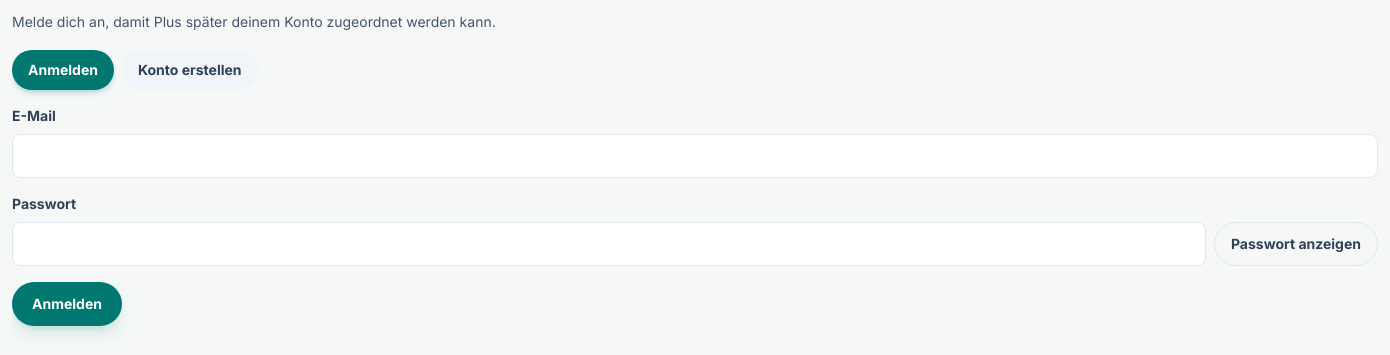
it: AuthPanel › toggles the password field from password to text
The width and height of the screenshot is (1390, 355).
Click the button "Passwort anzeigen" at (1296, 244), box [1214,222,1378,266]
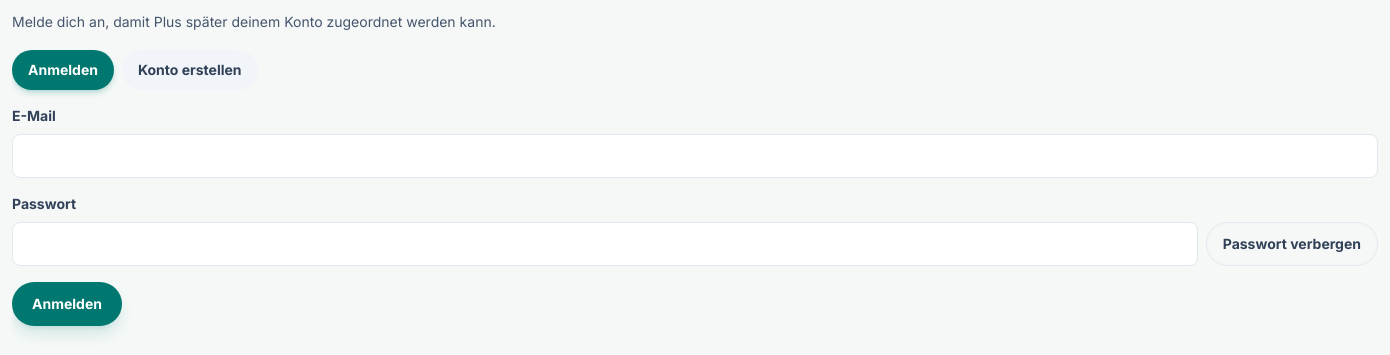
Expected: the text "Passwort verbergen" is shown
Click the button "Passwort verbergen" at (1292, 244), box [1206,222,1378,266]
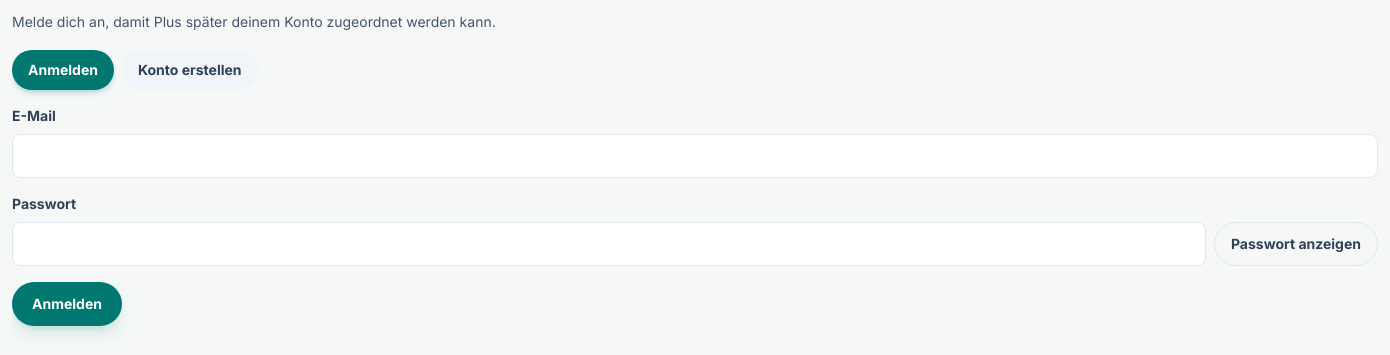
Expected: the text "Passwort anzeigen" is shown, [1214,222,1378,266]
